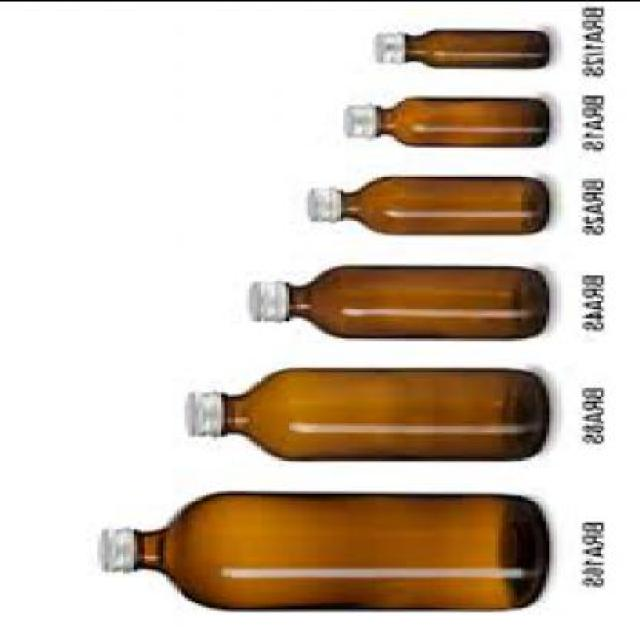glass: (134, 489, 549, 606), (222, 366, 550, 459), (283, 263, 551, 337), (337, 174, 549, 232), (377, 92, 546, 145), (402, 28, 549, 68)
metal: (182, 389, 224, 434), (243, 277, 286, 317), (94, 526, 131, 568), (337, 101, 380, 132), (305, 184, 337, 216), (369, 28, 398, 57)
